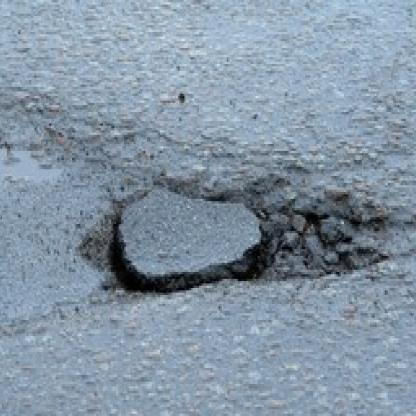pothole: (67, 169, 390, 295)
